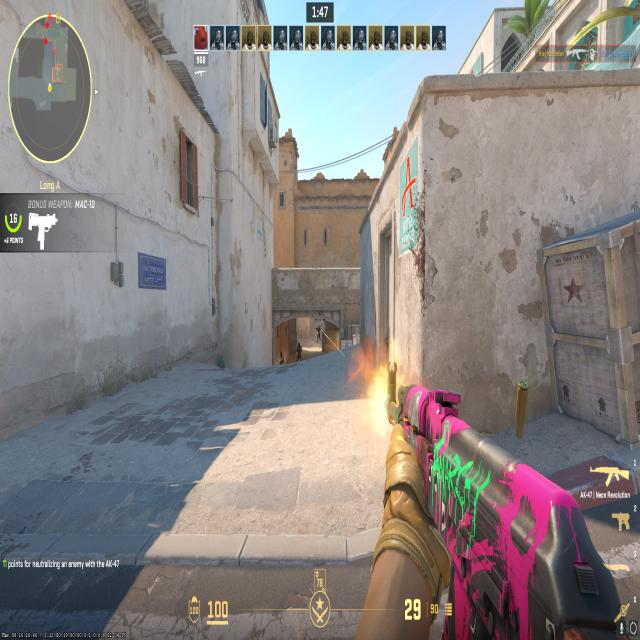ct: (292, 336, 304, 359), (315, 322, 322, 342)
t: (275, 347, 286, 365)
